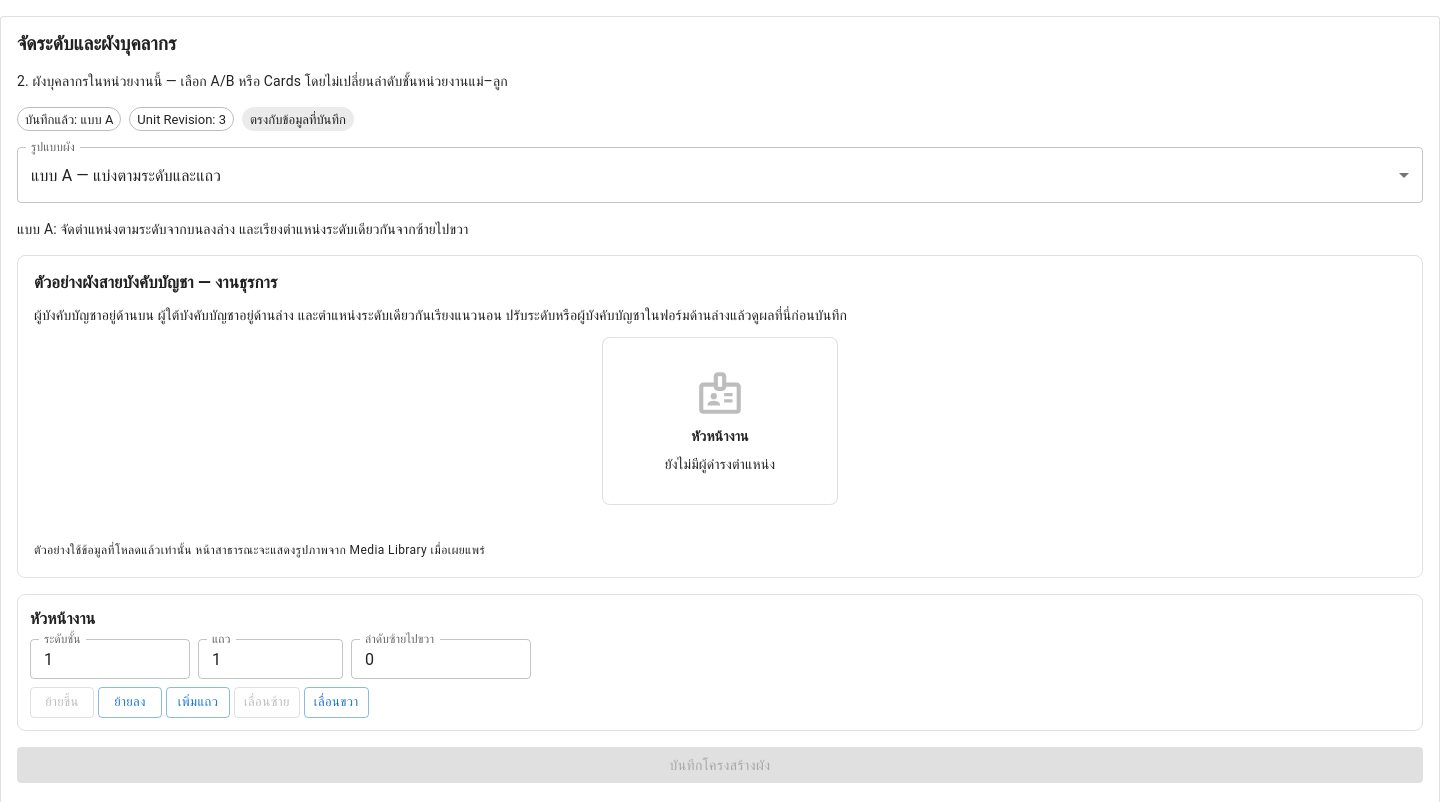
Test: Organization Chart layout audited save feedback › does not write if an unsaved level change is reverted
Replace the text in the number field labelled "ระดับชั้น" with "2" at (110, 659), box [30,639,190,679]
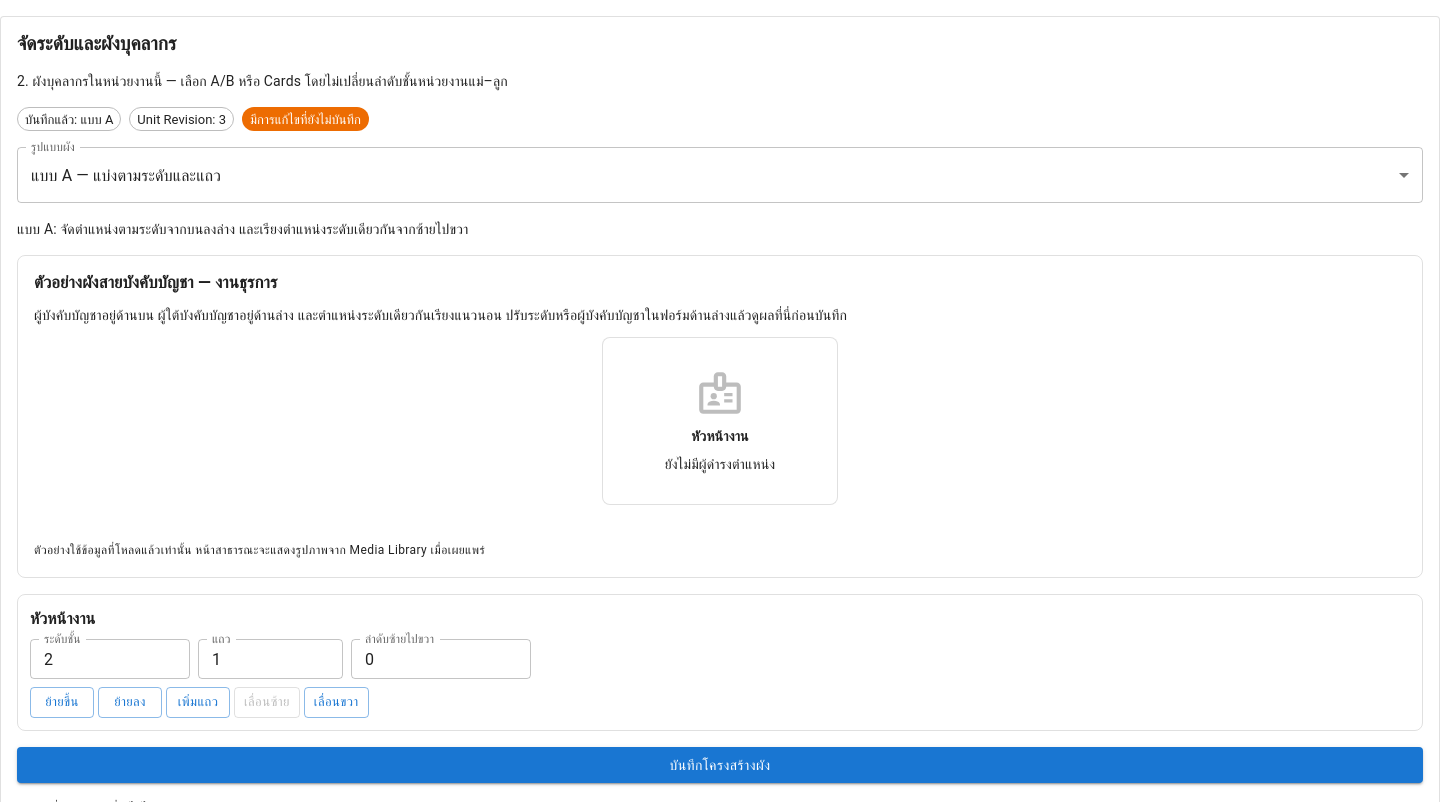
Now the button "บันทึกโครงสร้างผัง" is enabled, box [17,747,1423,783]
Replace the text in the number field labelled "ระดับชั้น" with "1" at (110, 659), box [30,639,190,679]
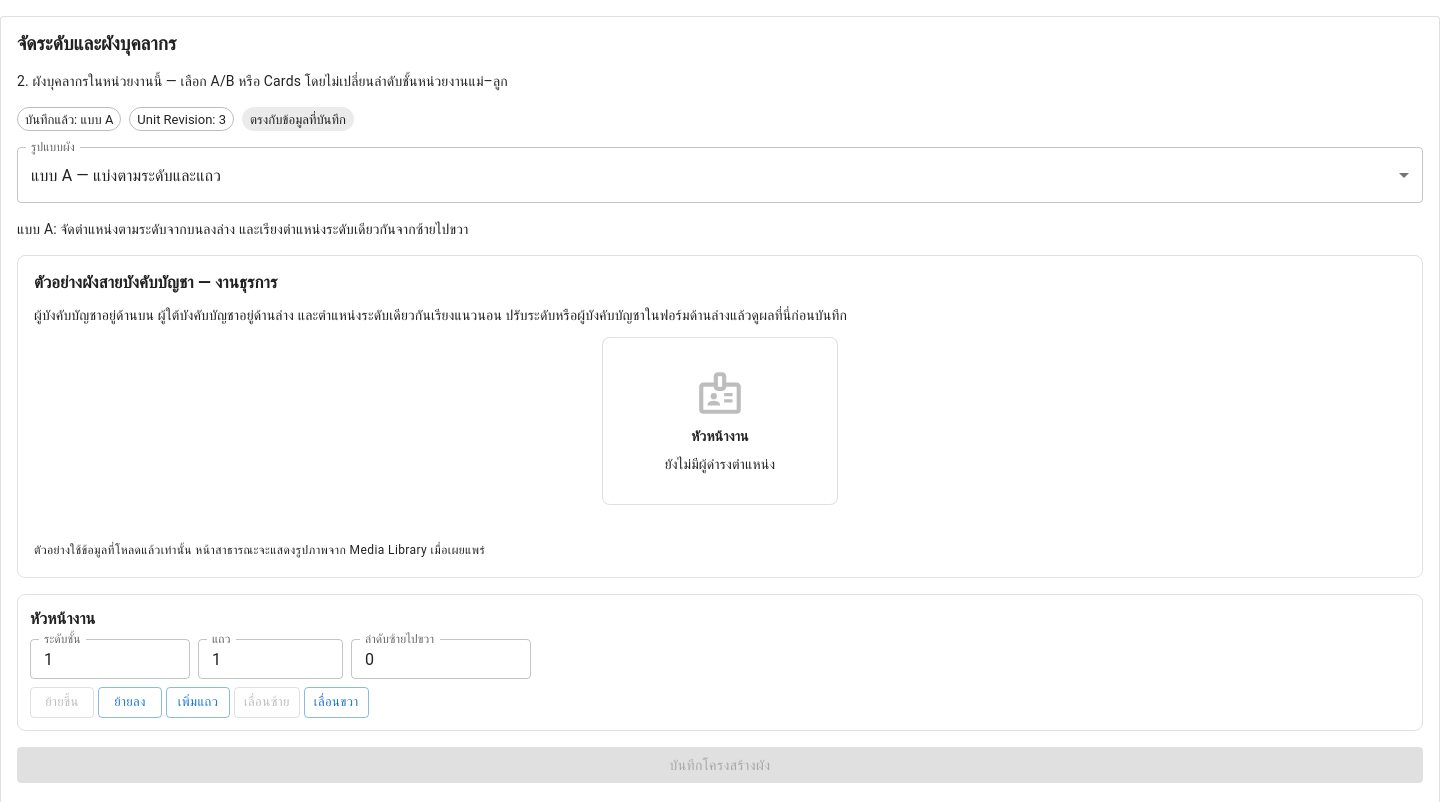
Now the button "บันทึกโครงสร้างผัง" is disabled, box [17,747,1423,783]
Now the text "ตรงกับข้อมูลที่บันทึก" is shown, box [242,110,354,129]
